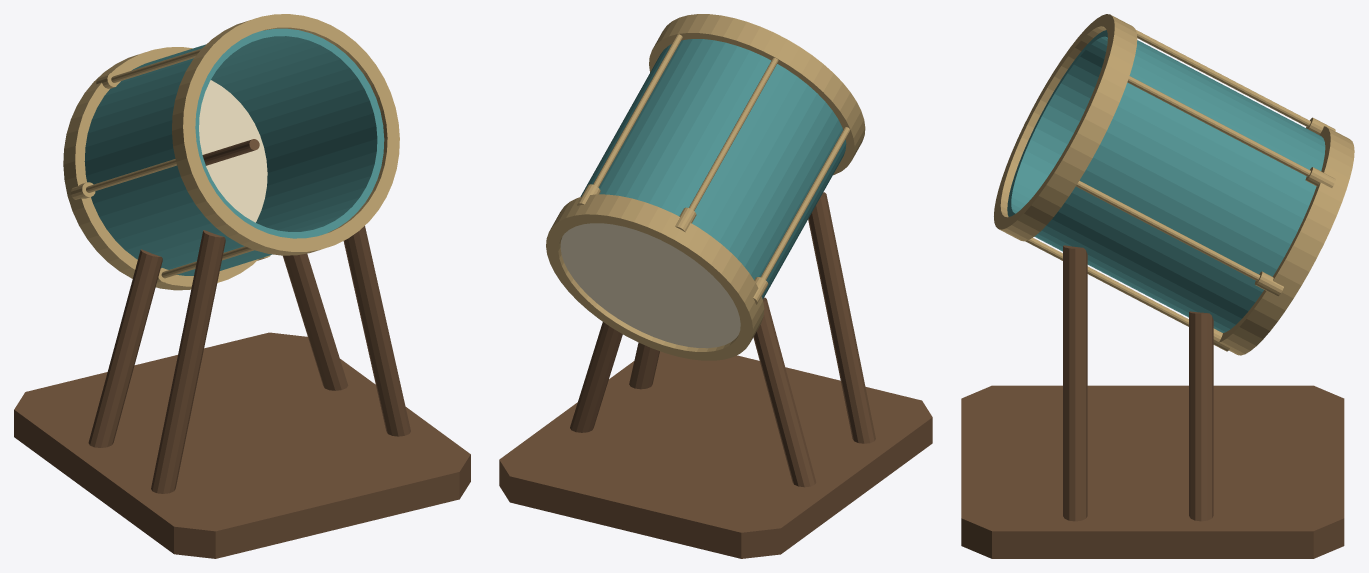
3 views of the same model, side by side, from view 1: azimuth 30°, elevation 25°; view 2: azimuth 150°, elevation 25°; view 3: azimuth 270°, elevation 25° (orthographic). The views are drawn at different scales.
Parts seen in each view (by area): view 1: WholeGroundCarrierFoot, WholeOpenBottomCylindricalShell, WholeOpenMouthBand, WholeCradleBrace00, WholeHeadRetainingBand, WholeSingleThickHead, WholeCradleBrace01, WholeCradleBrace10, WholeCradleBrace11, WholeExternalTensionRod3, WholeCentralInternalFrictionRod, WholeExternalTensionRod4; view 2: WholeGroundCarrierFoot, WholeOpenBottomCylindricalShell, WholeSingleThickHead, WholeHeadRetainingBand, WholeOpenMouthBand, WholeCradleBrace00, WholeCradleBrace10, WholeCradleBrace11, WholeExternalTensionRod4, WholeExternalTensionRod5, WholeExternalTensionRod3, WholeCradleBrace01; view 3: WholeGroundCarrierFoot, WholeOpenBottomCylindricalShell, WholeOpenMouthBand, WholeHeadRetainingBand, WholeCradleBrace01, WholeCradleBrace11, WholeExternalTensionRod0, WholeExternalTensionRod5, WholeExternalTensionRod4, WholeExternalTensionRod1.
Boxes of the visible parts, x1,y1,x2,y2 form: WholeGroundCarrierFoot: [14, 332, 470, 558]; WholeOpenBottomCylindricalShell: [84, 28, 384, 275]; WholeOpenMouthBand: [172, 14, 399, 255]; WholeCradleBrace00: [151, 230, 225, 493]; WholeHeadRetainingBand: [63, 47, 258, 290]; WholeSingleThickHead: [199, 80, 267, 222]; WholeCradleBrace01: [343, 226, 410, 436]; WholeCradleBrace10: [88, 249, 162, 447]; WholeCradleBrace11: [283, 253, 348, 390]; WholeExternalTensionRod3: [86, 159, 176, 192]; WholeCentralInternalFrictionRod: [202, 139, 259, 165]; WholeExternalTensionRod4: [111, 48, 201, 82]; WholeGroundCarrierFoot: [499, 351, 932, 558]; WholeOpenBottomCylindricalShell: [580, 39, 846, 299]; WholeSingleThickHead: [560, 223, 740, 348]; WholeHeadRetainingBand: [546, 194, 764, 360]; WholeOpenMouthBand: [649, 14, 865, 175]; WholeCradleBrace00: [808, 192, 875, 443]; WholeCradleBrace10: [753, 297, 816, 487]; WholeCradleBrace11: [570, 322, 622, 432]; WholeExternalTensionRod4: [689, 57, 778, 210]; WholeExternalTensionRod5: [593, 34, 682, 187]; WholeExternalTensionRod3: [761, 127, 850, 279]; WholeCradleBrace01: [629, 342, 659, 389]; WholeGroundCarrierFoot: [961, 385, 1344, 558]; WholeOpenBottomCylindricalShell: [1007, 30, 1325, 332]; WholeOpenMouthBand: [994, 14, 1137, 241]; WholeHeadRetainingBand: [1219, 126, 1354, 355]; WholeCradleBrace01: [1063, 245, 1087, 521]; WholeCradleBrace11: [1189, 311, 1213, 521]; WholeExternalTensionRod0: [1076, 180, 1260, 280]; WholeExternalTensionRod5: [1127, 76, 1310, 176]; WholeExternalTensionRod4: [1136, 30, 1310, 127]; WholeExternalTensionRod1: [1025, 238, 1188, 326].
Size of the model in its own units: 0.45 by 0.6618 by 0.5135.
